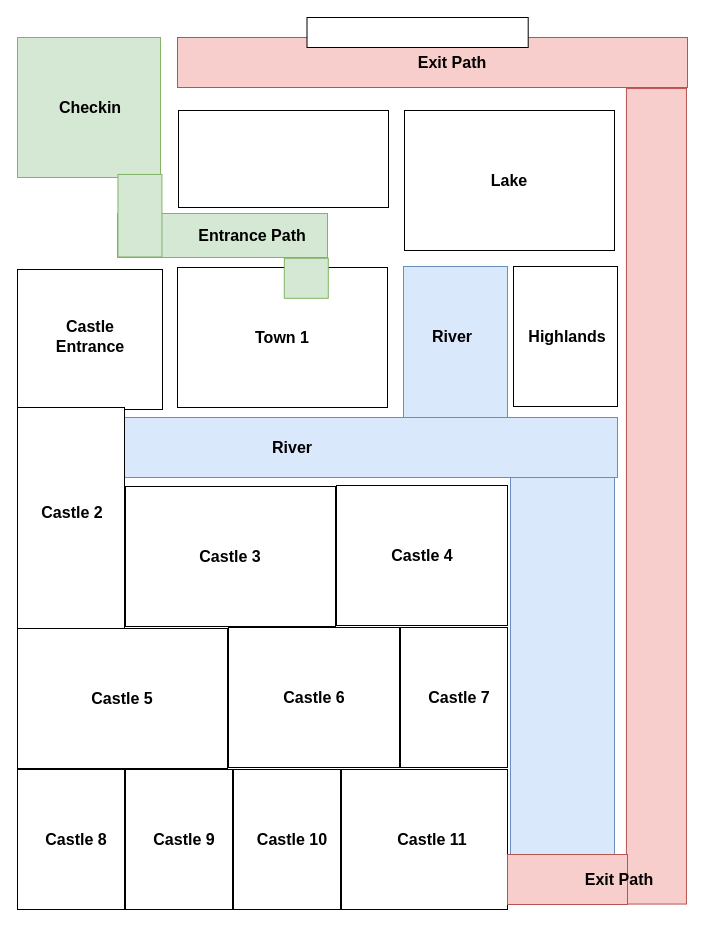
This 705x927 diagram has some shape labels left out. The shapes that lost their labels are listed below. From the top down, each one's box as (x1, y1, x2, y2) in pixels, then its label:
(306, 16, 528, 48): Front Window
(178, 110, 388, 208): Mountains
